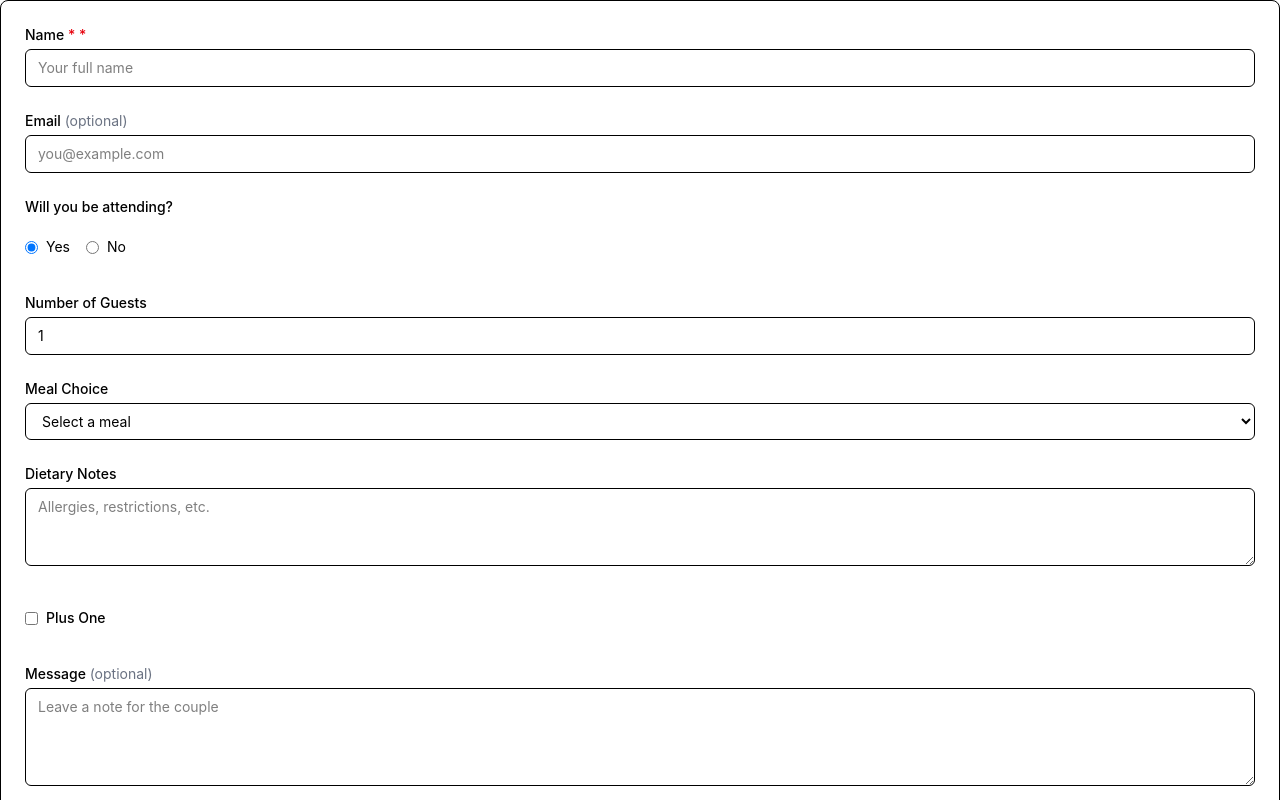
RsvpForm › shows headcount only when attending
Expected: the radio button labelled "Yes" is checked, [25,240,38,254]
Expected: the number field labelled "Number of Guests" is shown, [25,317,1255,355]
// Switch to not attending → headcount hidden
Click the radio button labelled "No": coordinates (92, 247) [86,240,99,254]
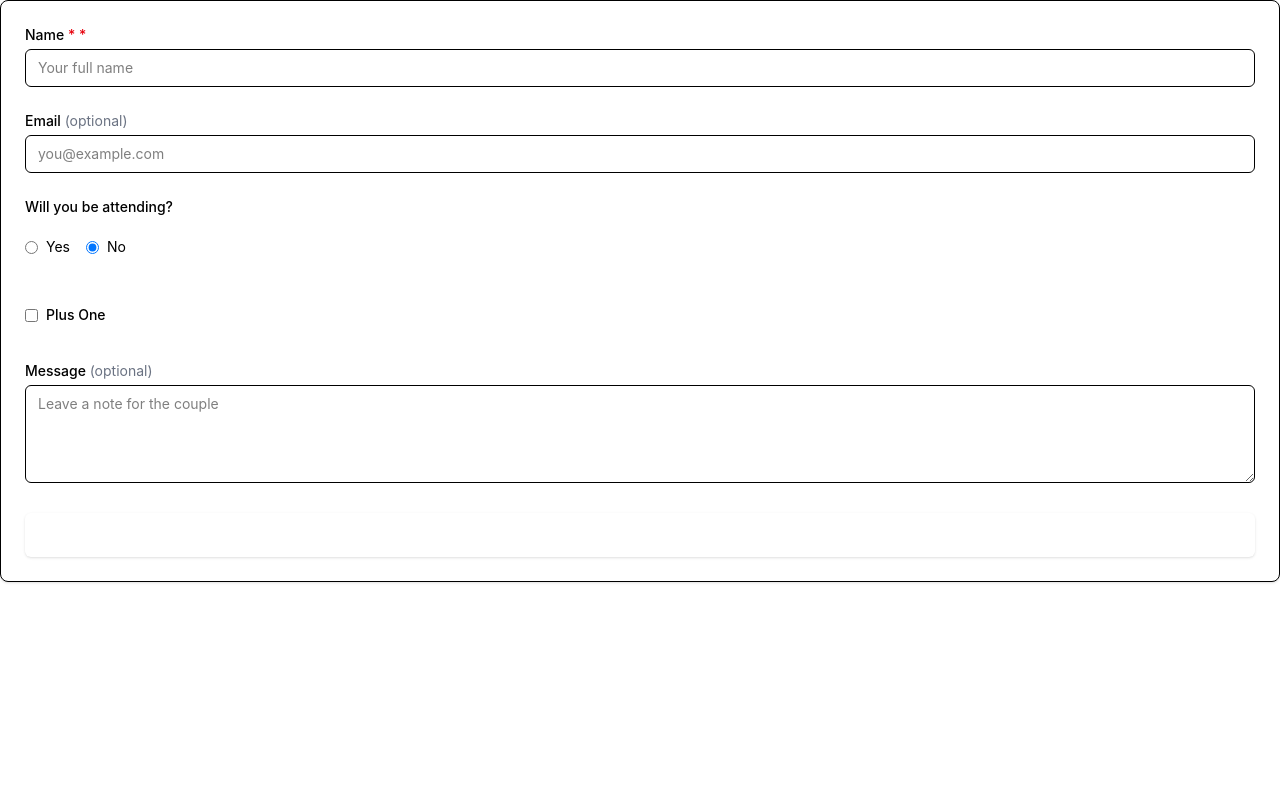
Now the label labelled "Number of Guests" is gone
// Switch back to attending → headcount visible again
Click the radio button labelled "Yes": coordinates (32, 247) [25,240,38,254]
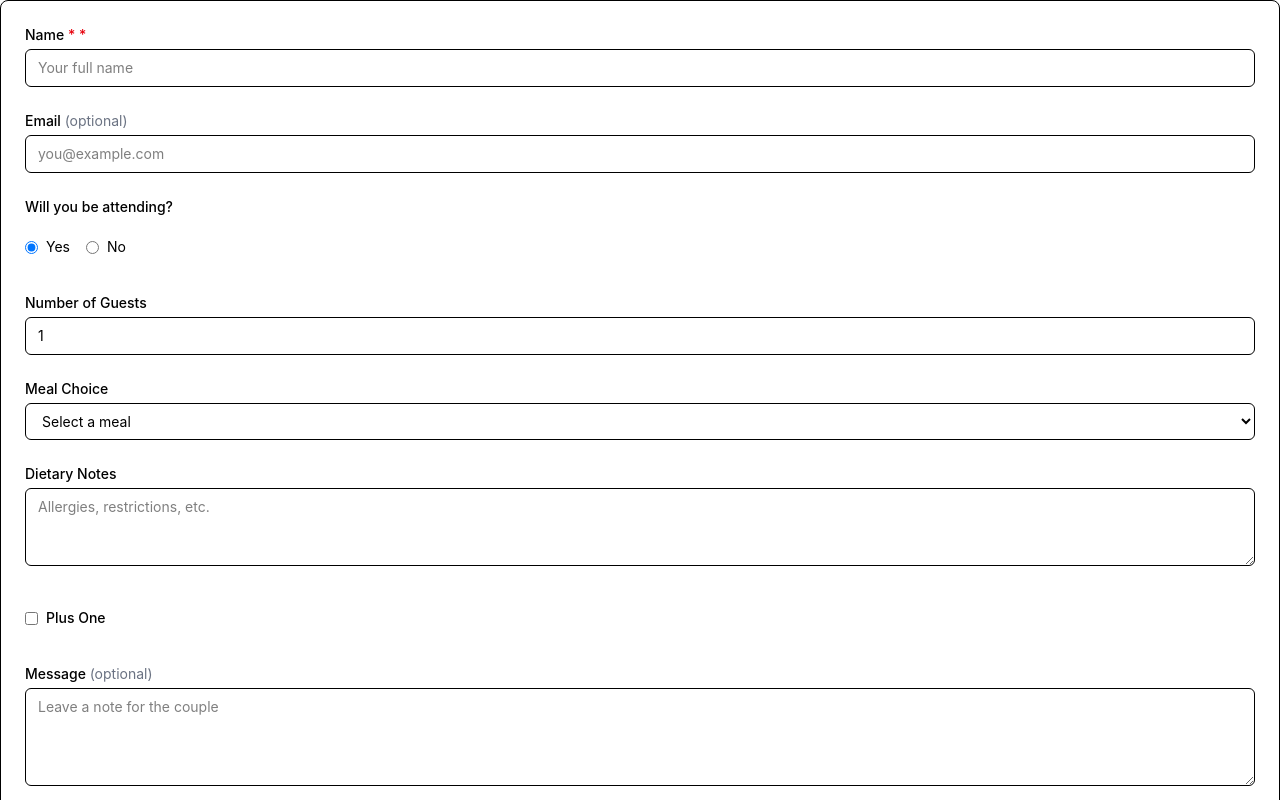
Now the number field labelled "Number of Guests" is shown, box [25,317,1255,355]
